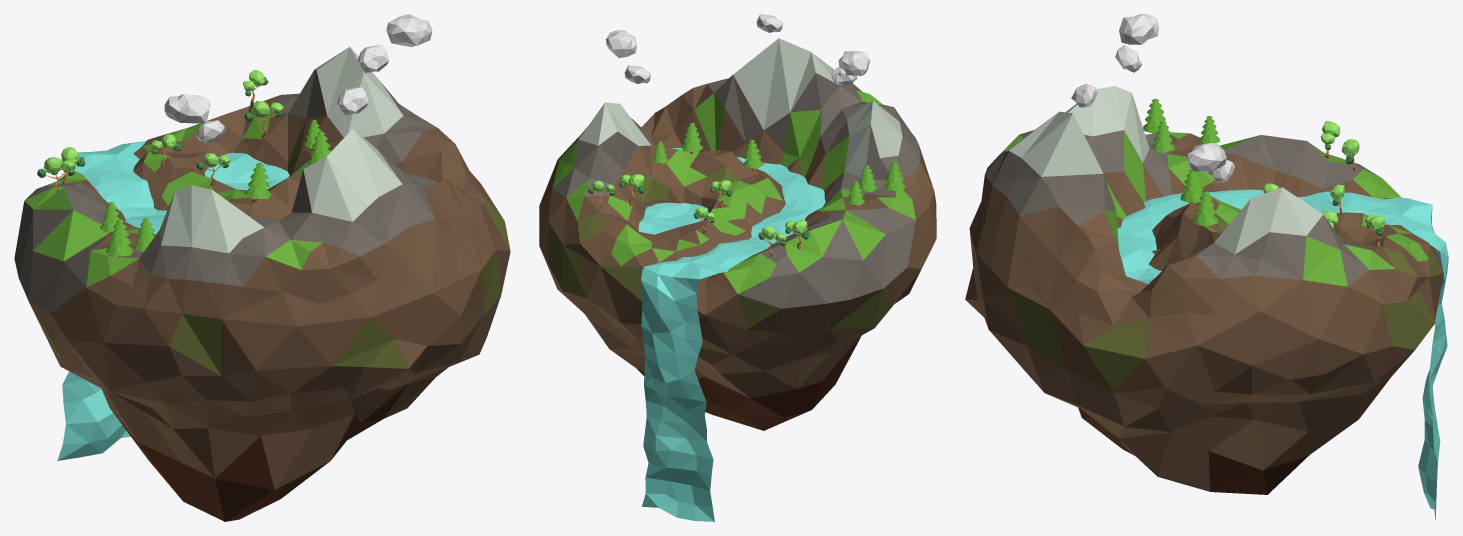
The model's file is Low Poly Island.fbx.
The picture shows the model from 3 angles, left to right: view 1: azimuth 30°, elevation 25°; view 2: azimuth 150°, elevation 25°; view 3: azimuth 270°, elevation 25°; orthographic projection. The views are drawn at different scales.
Visible parts, largest first — view 1: Icosphere, Plane, Icosphere.001, Icosphere.002, Plane.001, Plane.006, Cube.003, Cube; view 2: Icosphere, Plane, Icosphere.001, Icosphere.002; view 3: Icosphere, Plane, Icosphere.001, Icosphere.002, Plane.004.
Boxes of the visible parts, box(x1,y1,x2,y2) form: Icosphere: box(14, 47, 510, 521); Plane: box(57, 141, 289, 460); Icosphere.001: box(337, 14, 432, 114); Icosphere.002: box(164, 94, 226, 142); Plane.001: box(106, 219, 132, 257); Plane.006: box(244, 163, 271, 201); Cube.003: box(244, 101, 283, 139); Cube: box(37, 157, 75, 192); Icosphere: box(539, 38, 936, 430); Plane: box(638, 148, 825, 521); Icosphere.001: box(606, 14, 782, 83); Icosphere.002: box(831, 50, 870, 85); Icosphere: box(965, 86, 1443, 494); Plane: box(1117, 189, 1448, 519); Icosphere.001: box(1071, 83, 1234, 182); Icosphere.002: box(1115, 14, 1158, 72); Plane.004: box(1193, 191, 1218, 227).
Size of the model in its own units: 1897 by 2077 by 1976.
